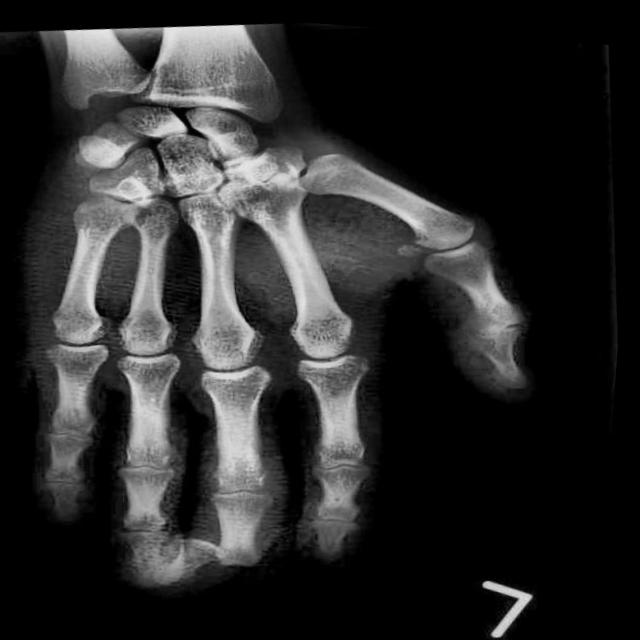fracture: (209, 531, 256, 570)
